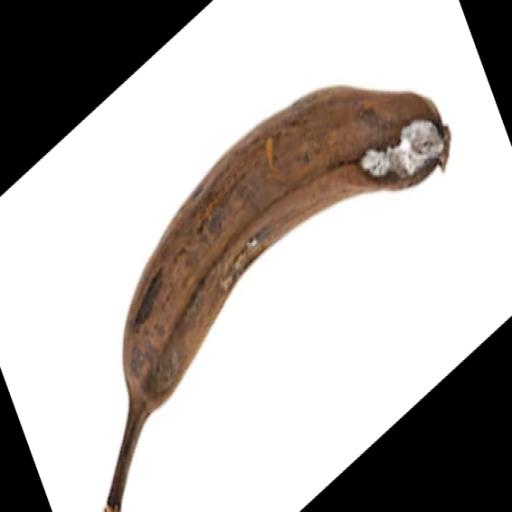banana-overripe: (58, 21, 452, 512)
